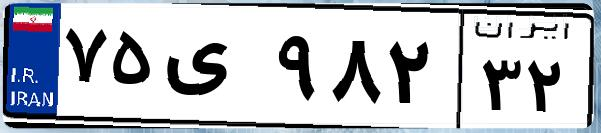2: (385, 28, 445, 110), (525, 38, 570, 115)
3: (475, 38, 525, 113)
5: (110, 28, 158, 98)
7: (57, 26, 110, 100)
8: (330, 28, 385, 110)
9: (270, 28, 330, 110)
ی: (158, 20, 270, 120)
